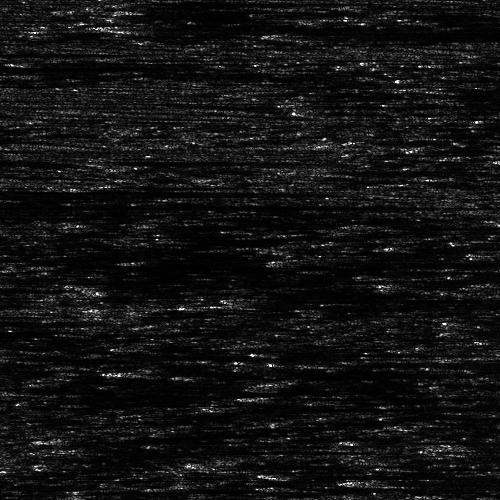object: (123, 290, 352, 309), (107, 296, 336, 315), (39, 147, 144, 172), (234, 29, 339, 40), (419, 438, 500, 451), (66, 23, 149, 34), (87, 365, 160, 376), (332, 476, 415, 485), (185, 403, 268, 412), (218, 258, 311, 265), (217, 393, 280, 400), (463, 250, 500, 261), (456, 155, 500, 164), (0, 249, 13, 270), (287, 168, 340, 173), (281, 380, 292, 387)
shadow: (0, 249, 382, 270), (221, 296, 500, 315), (238, 290, 500, 309), (92, 147, 284, 172), (0, 198, 336, 211), (107, 23, 500, 34), (124, 365, 456, 376), (226, 403, 500, 412), (287, 29, 500, 40), (265, 258, 470, 265), (249, 393, 389, 400), (0, 187, 126, 194), (314, 168, 450, 173), (374, 476, 447, 485), (0, 157, 60, 166), (287, 380, 356, 387), (465, 438, 500, 451), (0, 276, 18, 283)
